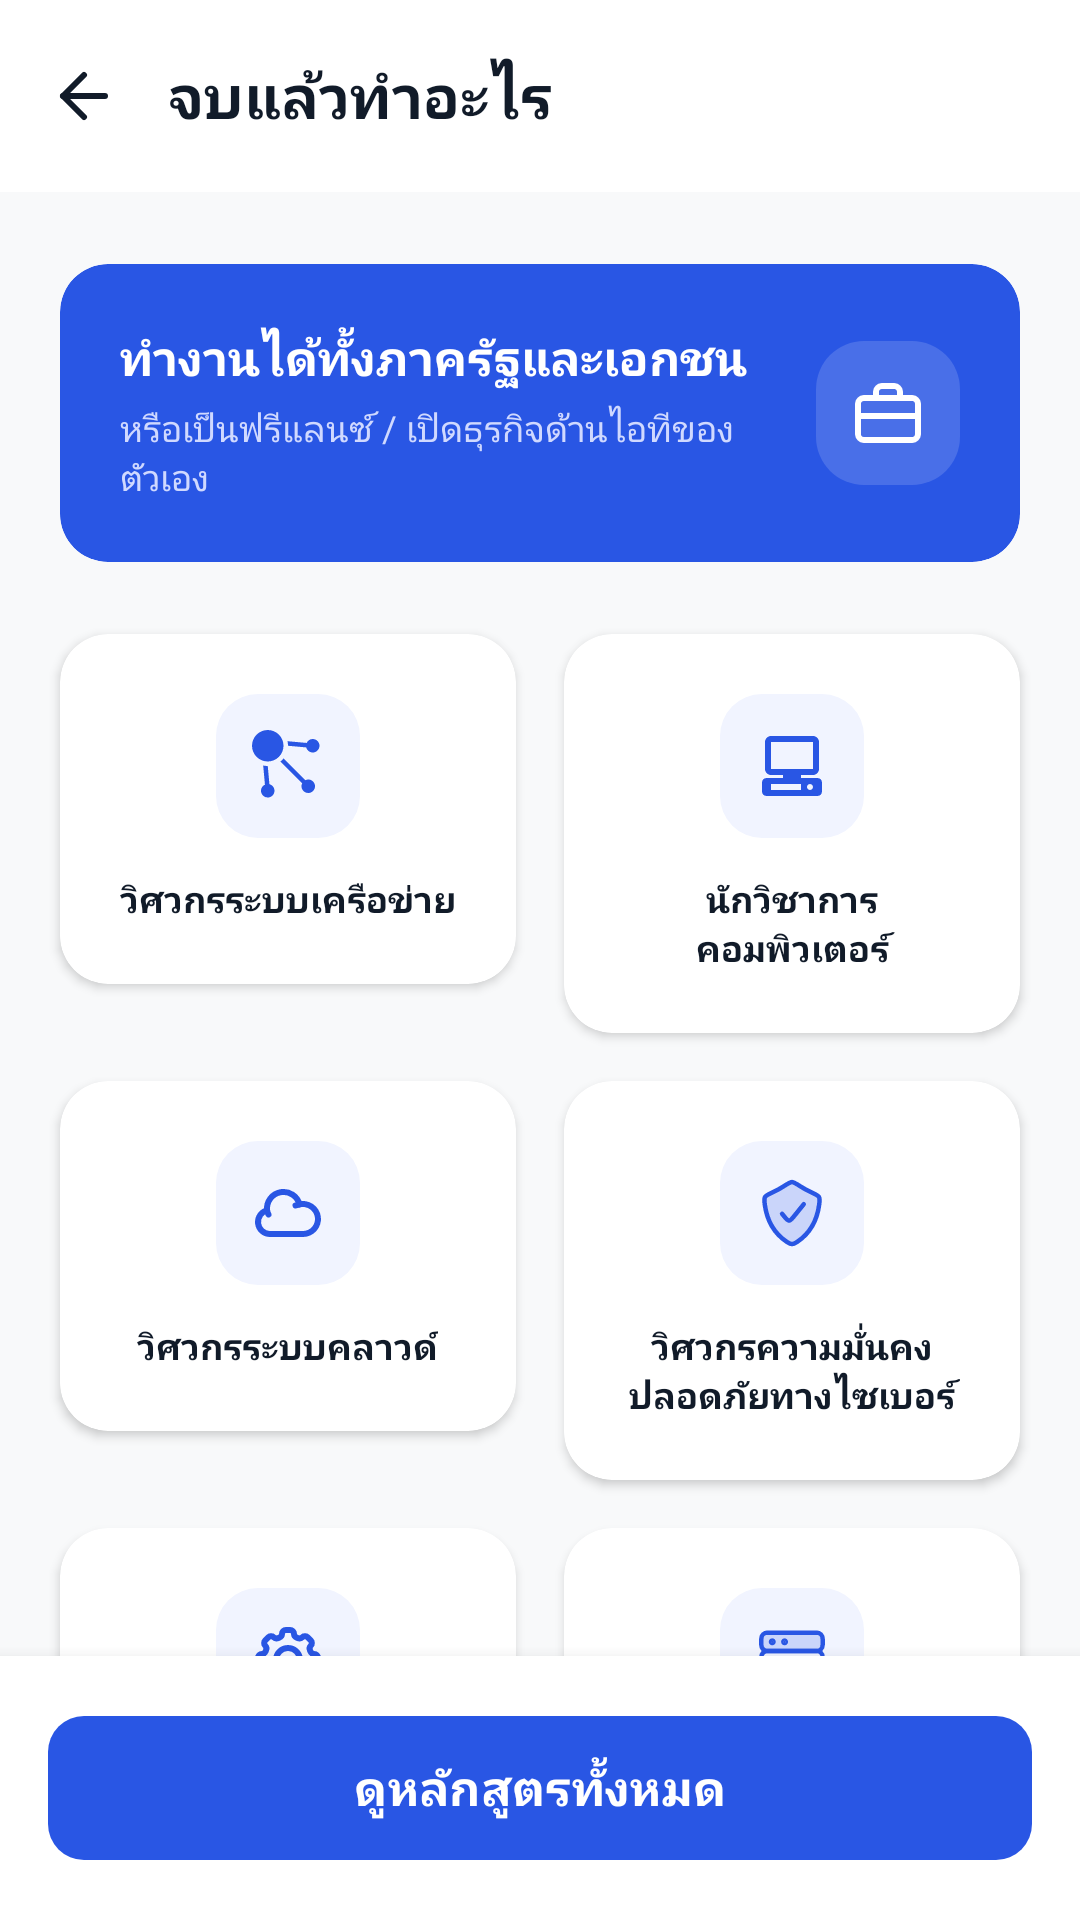

Locate icon controls on the screen. Image size 1080px×1920px, boxes as detection(x1, y1, x2, y2).
arrow back: detection(60, 72, 108, 120)
briefcase: detection(816, 341, 960, 485)
cloud: detection(216, 1141, 360, 1285)
computer: detection(762, 736, 822, 796)
node: detection(216, 694, 360, 838)
shield: detection(762, 1179, 822, 1247)
